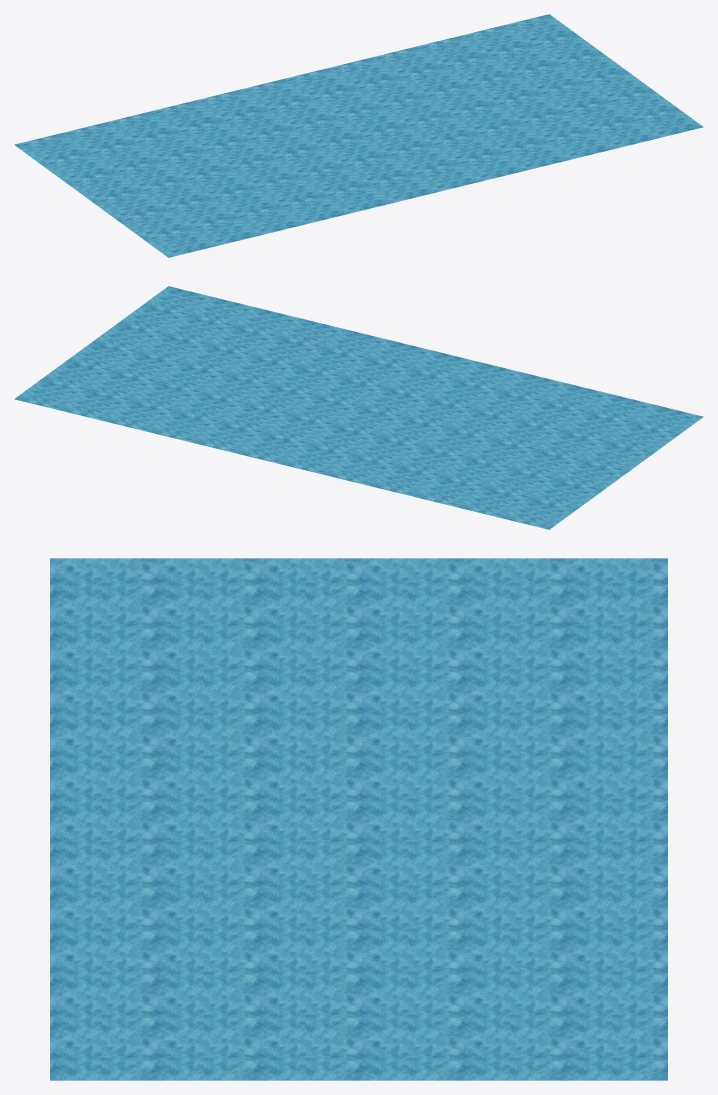
Rendered from MENU_STAGE.glb.
3 views of the same model, one above another, from view 1: azimuth 30°, elevation 25°; view 2: azimuth 150°, elevation 25°; view 3: azimuth 270°, elevation 25° (orthographic). The views are drawn at different scales.
Parts seen in each view (by area): view 1: obj1; view 2: obj1; view 3: obj1.
Part boxes in pixels (x1,y1,x2,y2): obj1: (14,14,703,257); obj1: (14,286,703,529); obj1: (50,558,667,1080).
Size of the model in its own units: 220 by 0 by 110.
Materials: 1 (1 with a texture image).
